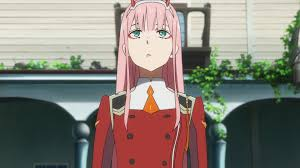zeroTwo: (113, 1, 195, 74)
